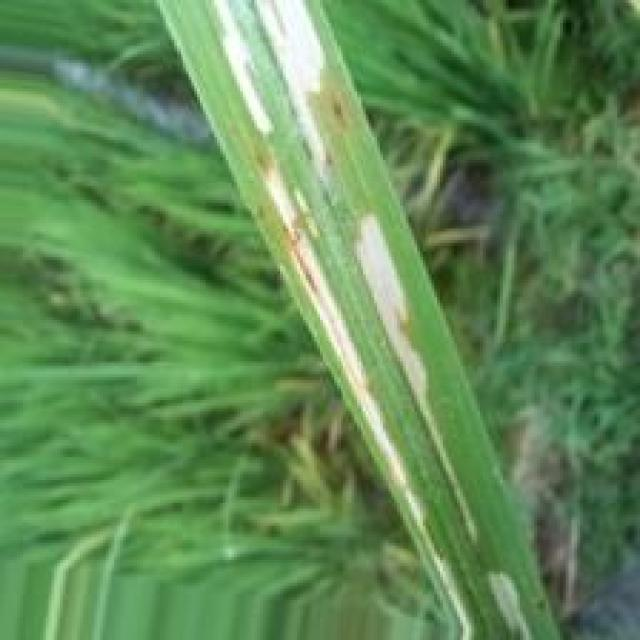Rice_Hispa: (257, 162, 466, 640), (354, 215, 473, 539), (246, 0, 330, 178), (215, 6, 270, 137), (490, 570, 537, 640)
